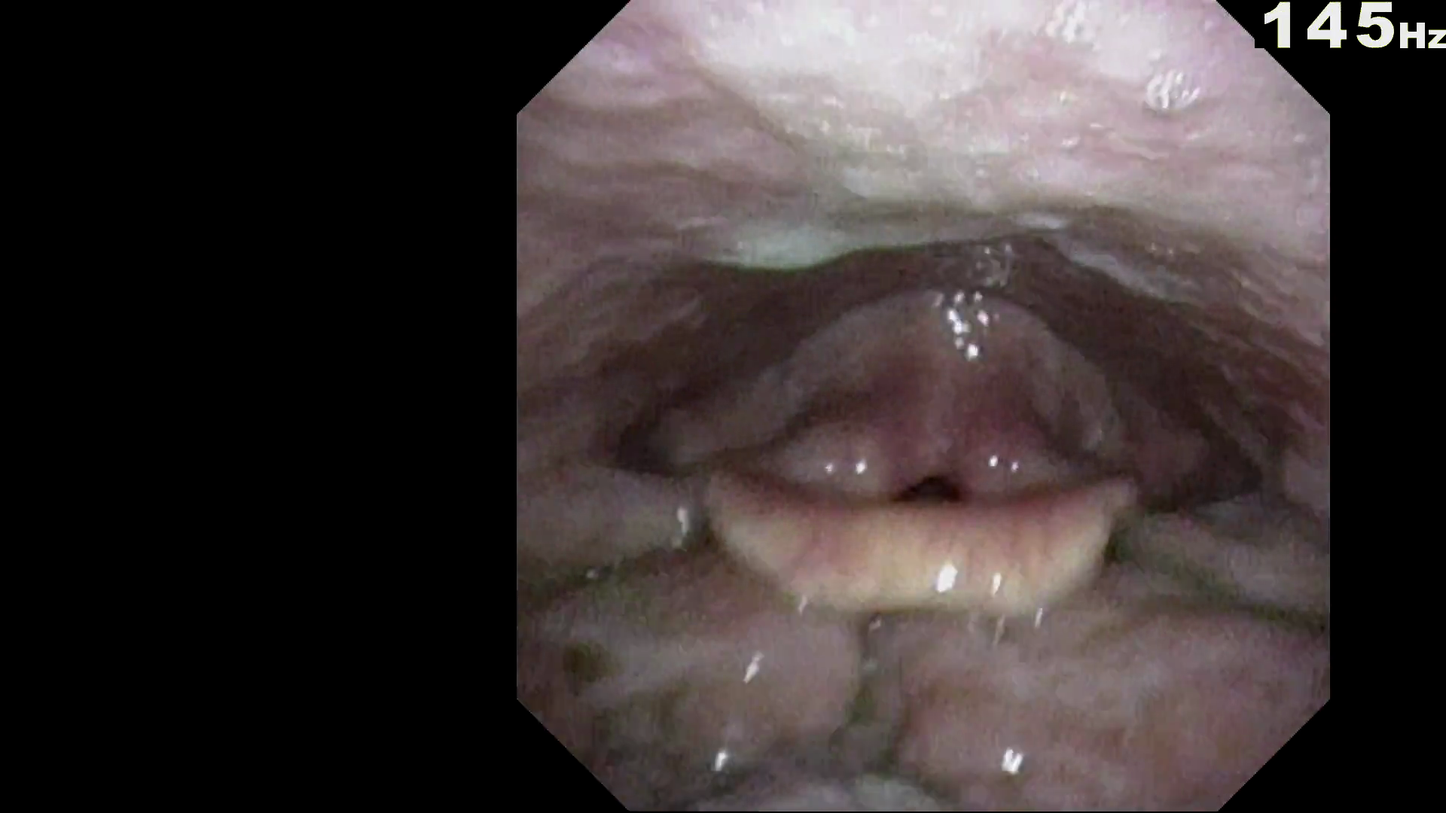epiglottis: (682, 493, 1189, 609)
trachea: (886, 458, 980, 520)
